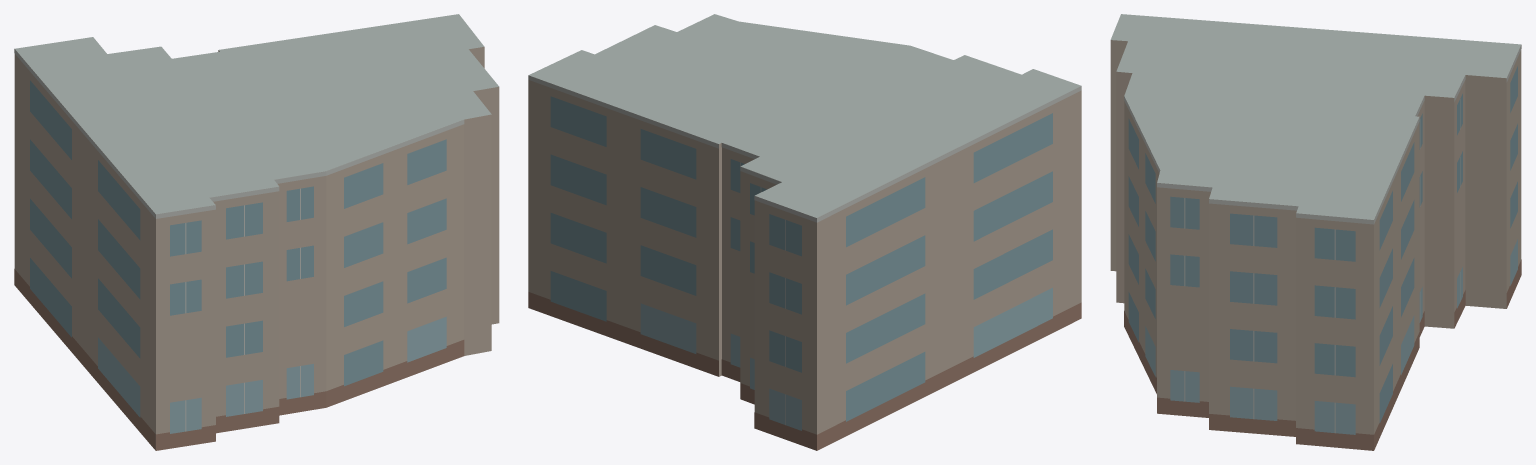
File: survey-upis-32463470.glb
3 views of the same model, side by side, from view 1: azimuth 30°, elevation 25°; view 2: azimuth 150°, elevation 25°; view 3: azimuth 270°, elevation 25° (orthographic). The views are drawn at different scales.
Parts seen in each view (by area): view 1: survey-upis-32463470.tmp; view 2: survey-upis-32463470.tmp; view 3: survey-upis-32463470.tmp.
Part boxes in pixels (box(x1,y1,x2,y2)): survey-upis-32463470.tmp: box(14, 14, 499, 450); survey-upis-32463470.tmp: box(528, 14, 1081, 450); survey-upis-32463470.tmp: box(1110, 14, 1521, 450).
Bounding box in the file's own units: 24.13 × 12.6 × 20.34.
